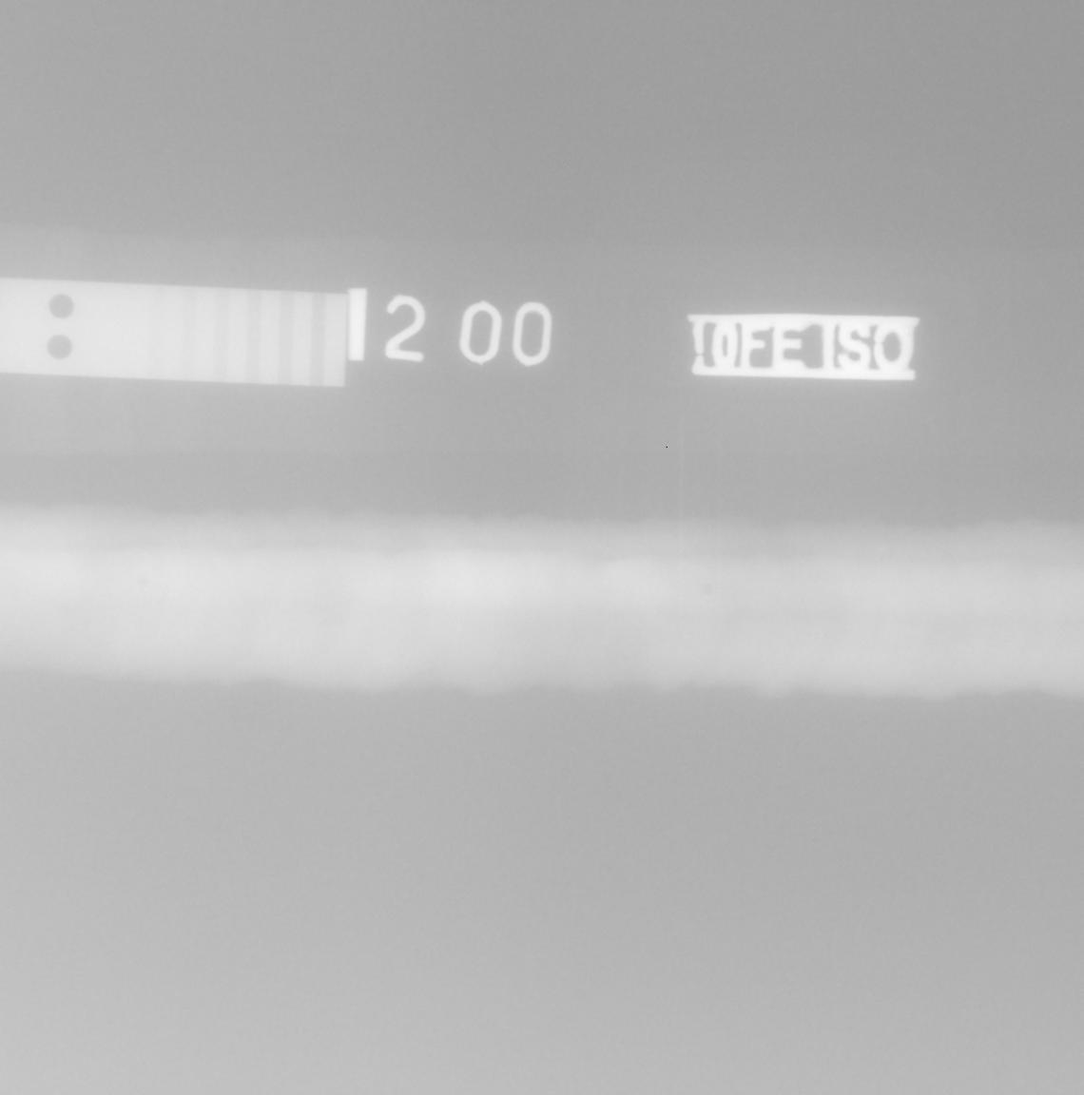Pore/Porosity: (700, 583, 711, 594), (137, 578, 148, 587)
